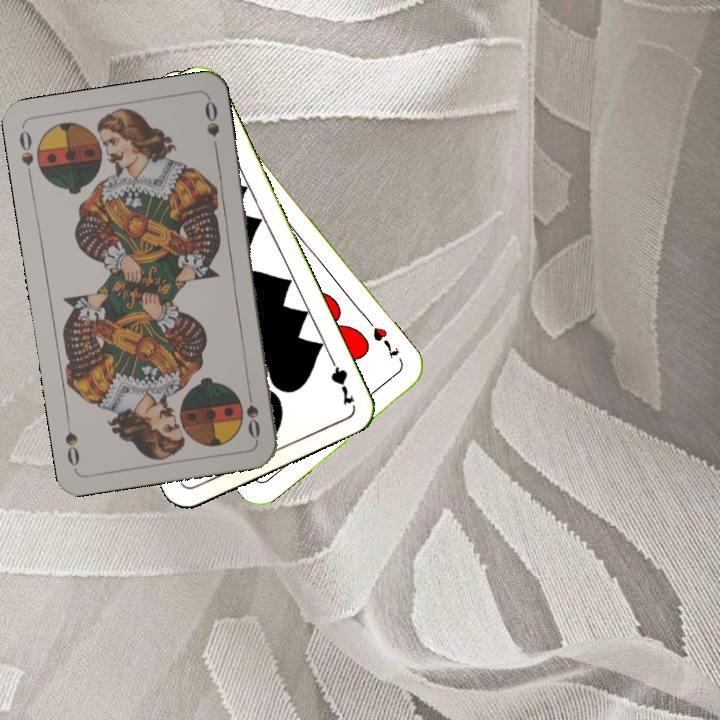G7: (324, 350, 357, 408)
H7: (363, 315, 402, 362)
SO: (15, 126, 37, 183), (242, 383, 263, 442)
